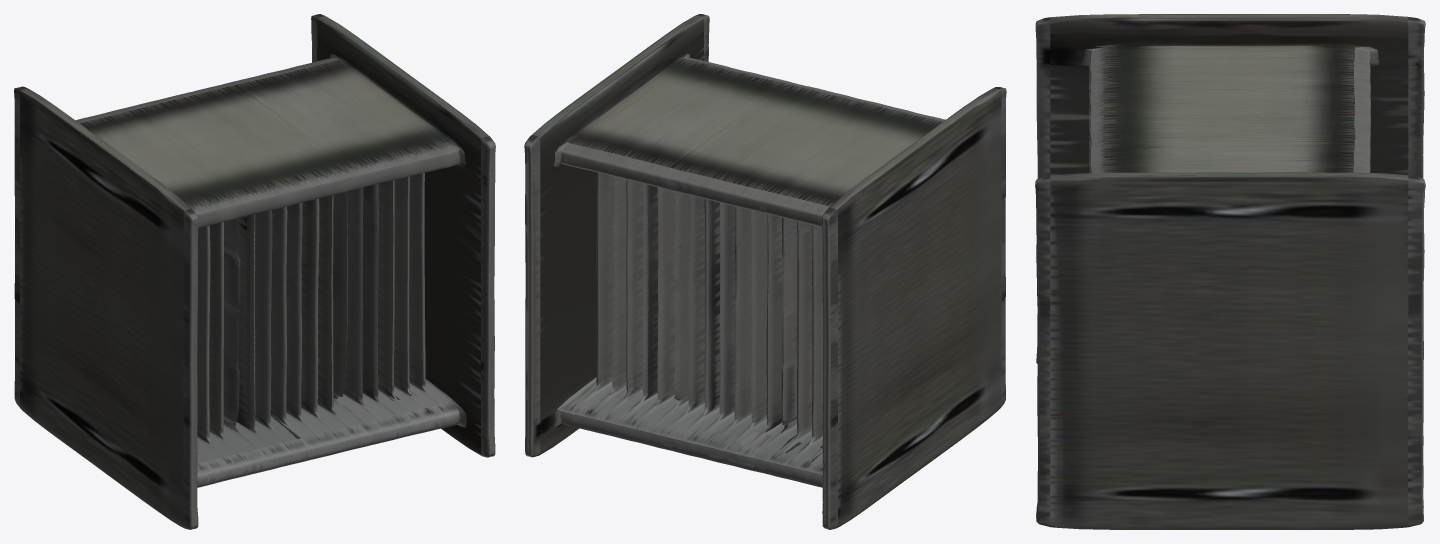
Rendered from balcony-railing.glb.
3 views of the same model, side by side, from view 1: azimuth 30°, elevation 25°; view 2: azimuth 150°, elevation 25°; view 3: azimuth 270°, elevation 25° (orthographic). The views are drawn at different scales.
Visible parts, largest first — view 1: tmpef5at093.ply; view 2: tmpef5at093.ply; view 3: tmpef5at093.ply.
Part boxes in pixels (x1,y1,x2,y2): tmpef5at093.ply: (14,14,495,529); tmpef5at093.ply: (524,14,1006,529); tmpef5at093.ply: (1035,14,1425,529).
Size of the model in its own units: 1 by 1 by 1.
Materials: 1 (1 with a texture image).
